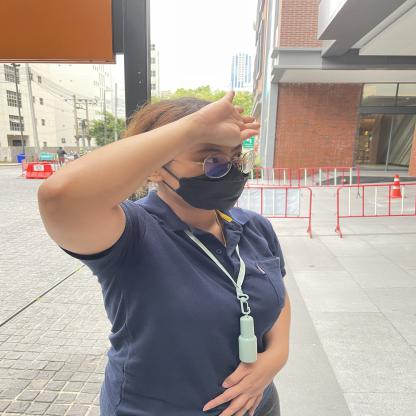Sick: (76, 83, 304, 169)
